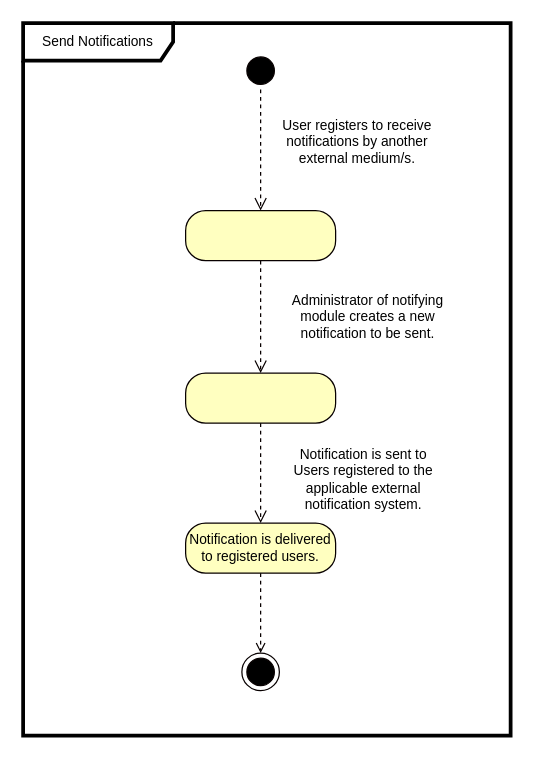
The diagram is 534 pixels wide and 759 high, and some of its shapes have lost their labels. The centre of each missing label's shape, as x and y in pixels:
"New notification is created." goes at (260,397).
"User is registered for external medium/s notifications." goes at (260,235).
